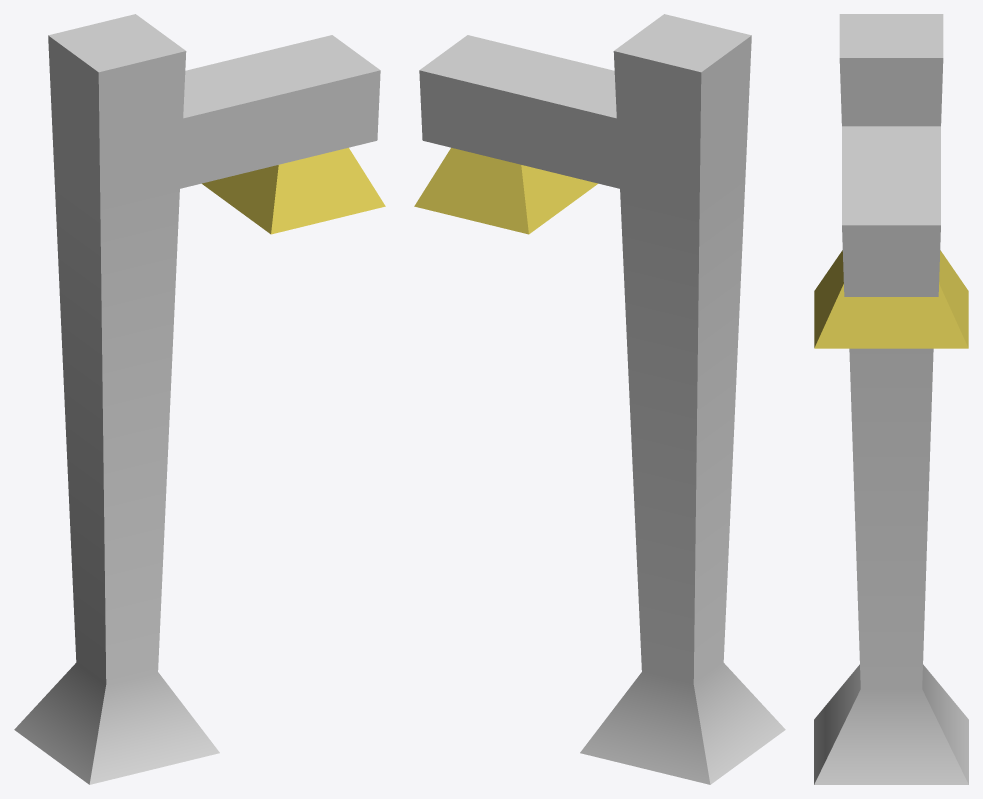
Rendered from lantern.fbx.
The picture shows the model from 3 angles, left to right: view 1: azimuth 30°, elevation 25°; view 2: azimuth 150°, elevation 25°; view 3: azimuth 270°, elevation 25°; orthographic projection. The views are drawn at different scales.
Parts seen in each view (by area): view 1: Lantern1; view 2: Lantern1; view 3: Lantern1.
Boxes of the visible parts, x1,y1,x2,y2 form: Lantern1: (14, 14, 385, 784); Lantern1: (414, 14, 785, 784); Lantern1: (814, 14, 968, 784).
Bounding box in the file's own units: 538 × 1177 × 231.
